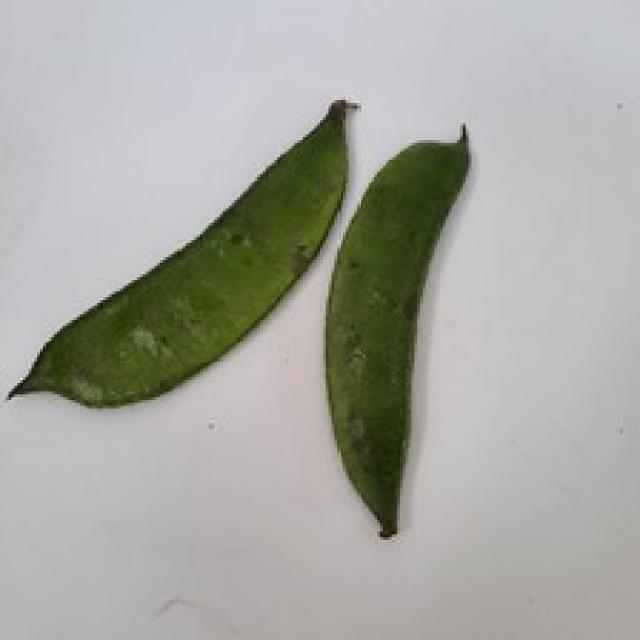Bean: (3, 94, 357, 409), (323, 120, 471, 537)
